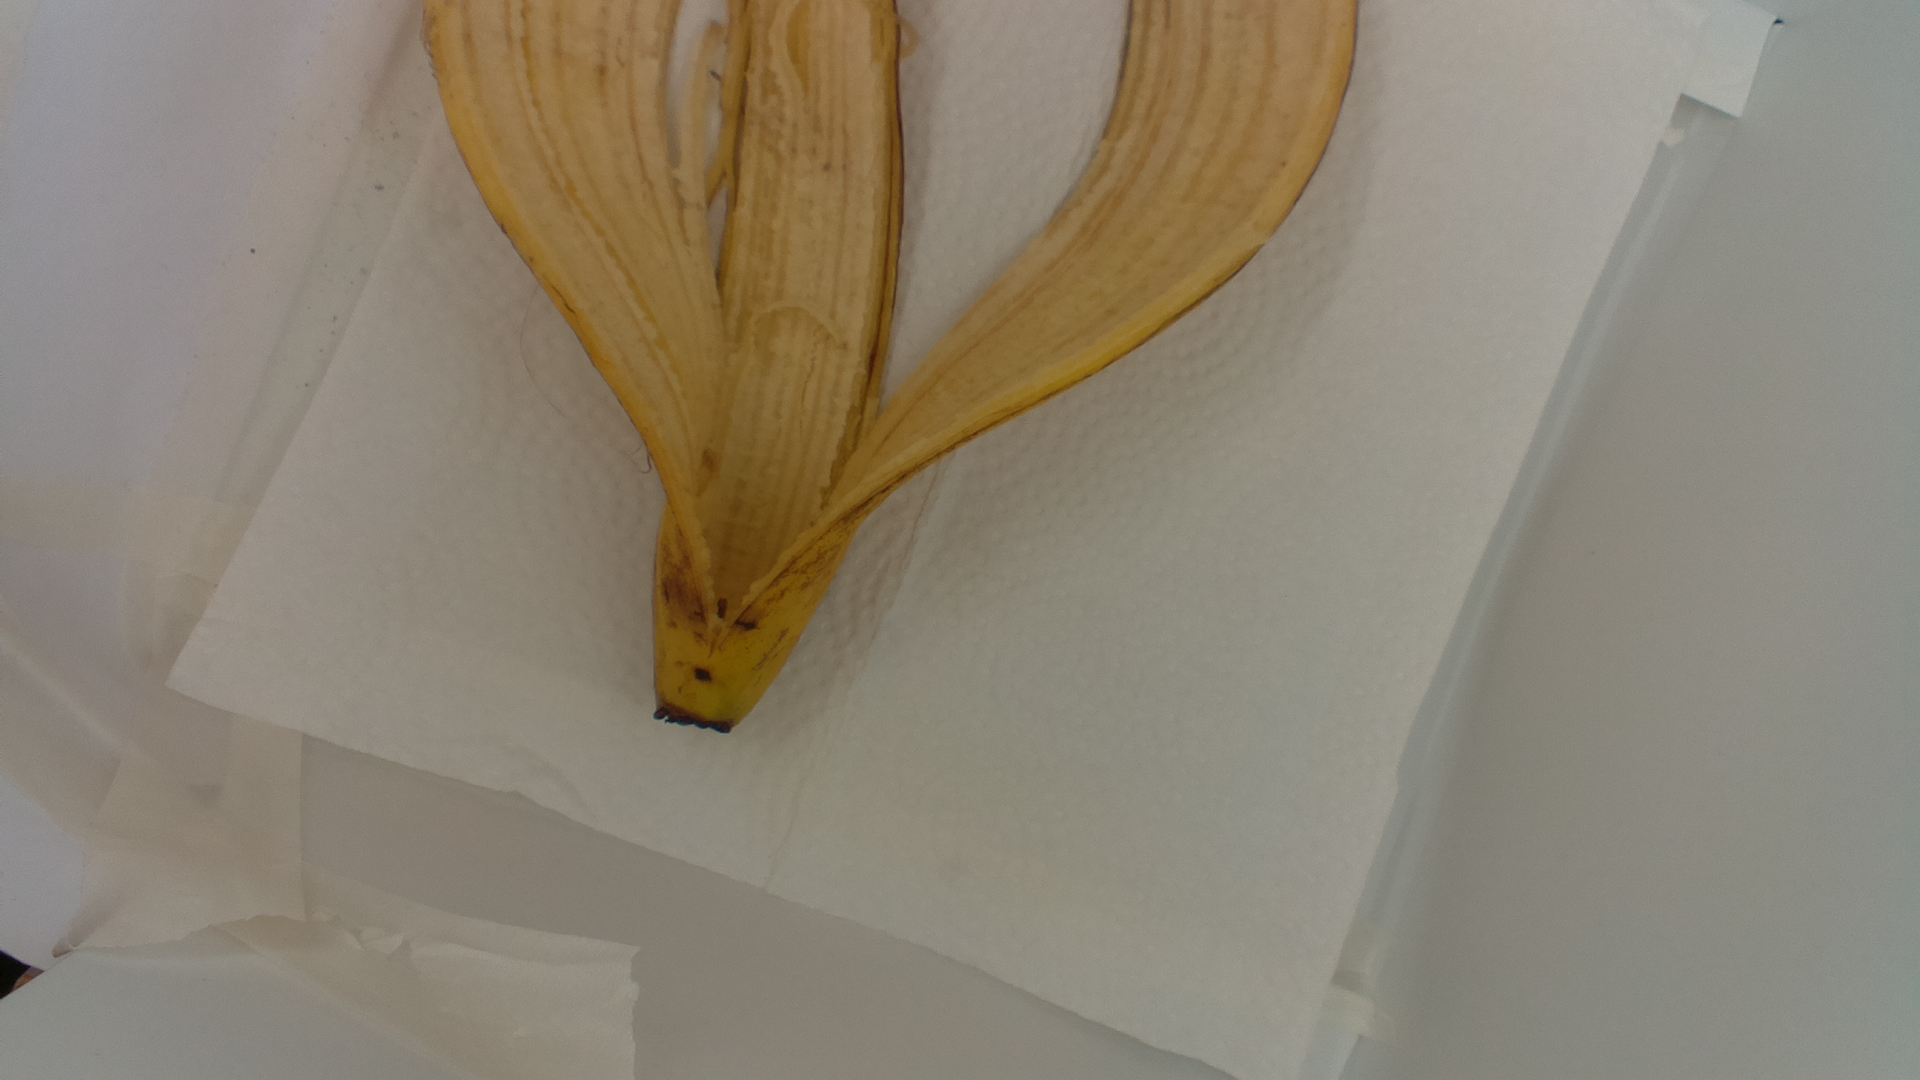fruit: (426, 1, 1382, 741)
